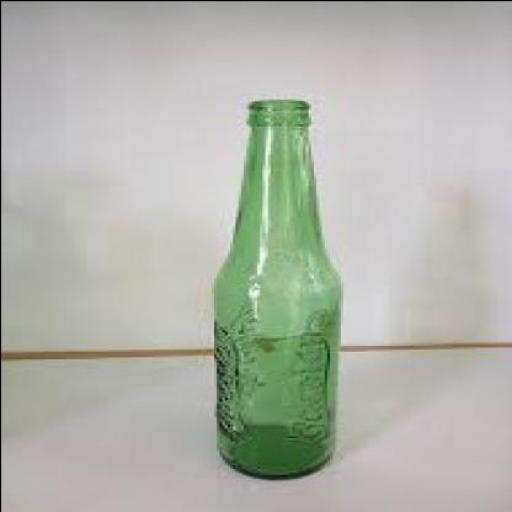glass: (210, 98, 340, 479)
